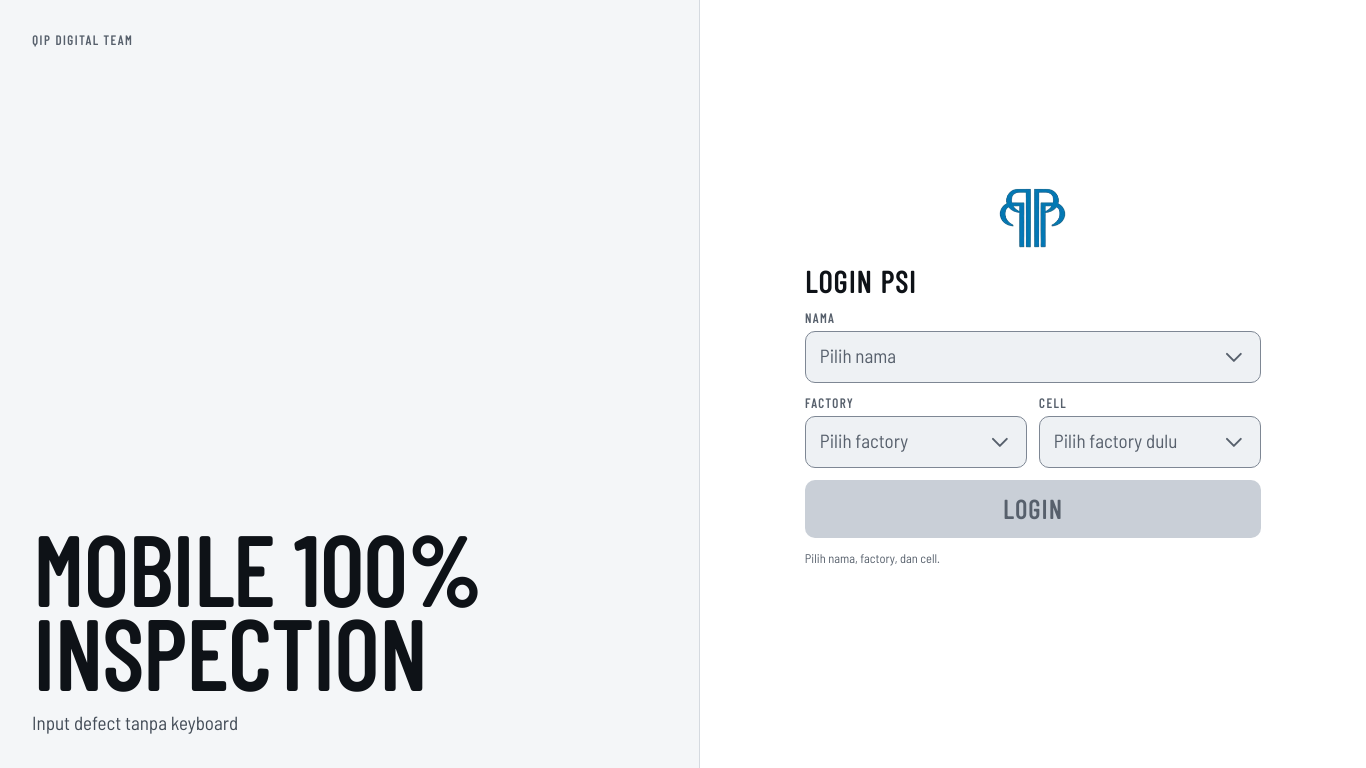
Test case: LoginScreen (doc 05 §7) › marks the chosen option in a picker and closes on Escape and scrim tap
Click the button "Pilih factory" at (916, 442), box [805,416,1027,468]
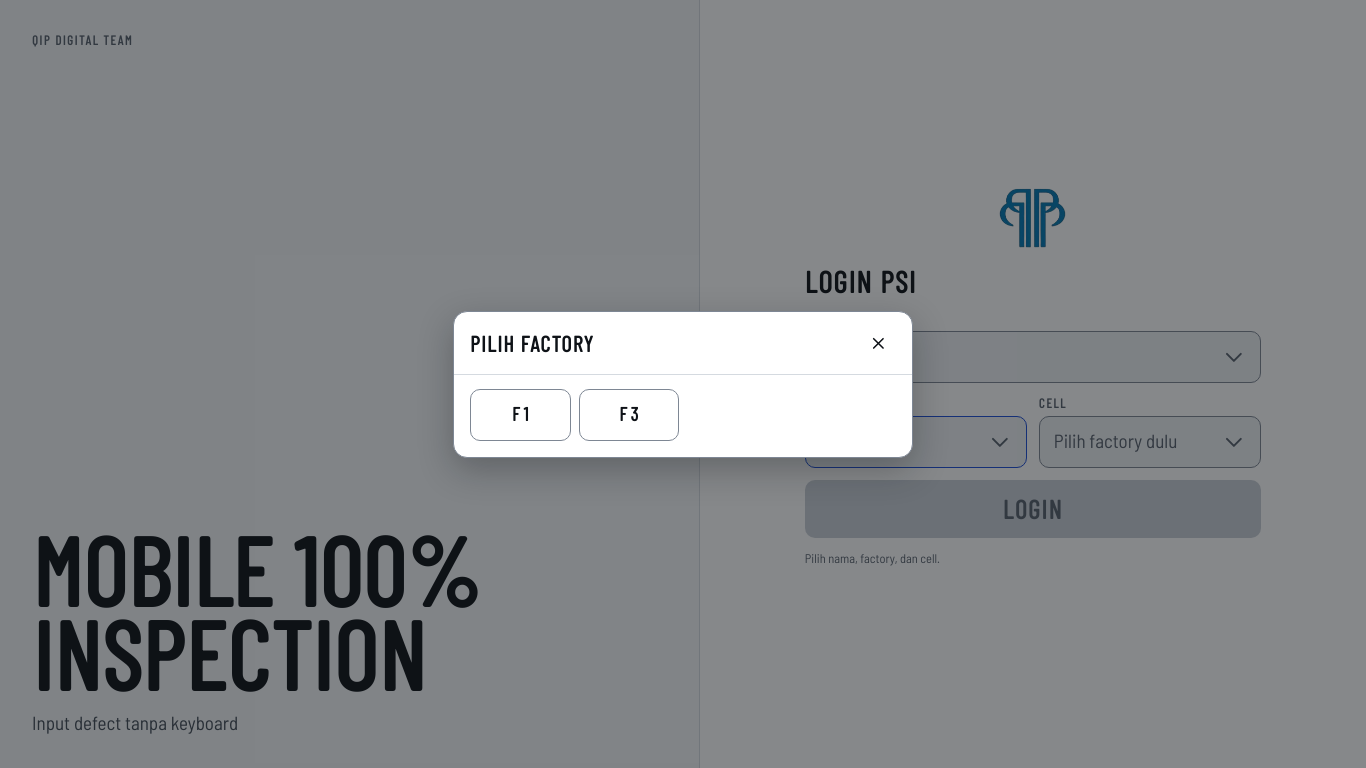
Click the option "F 3" at (629, 414), box [578,388,679,440]
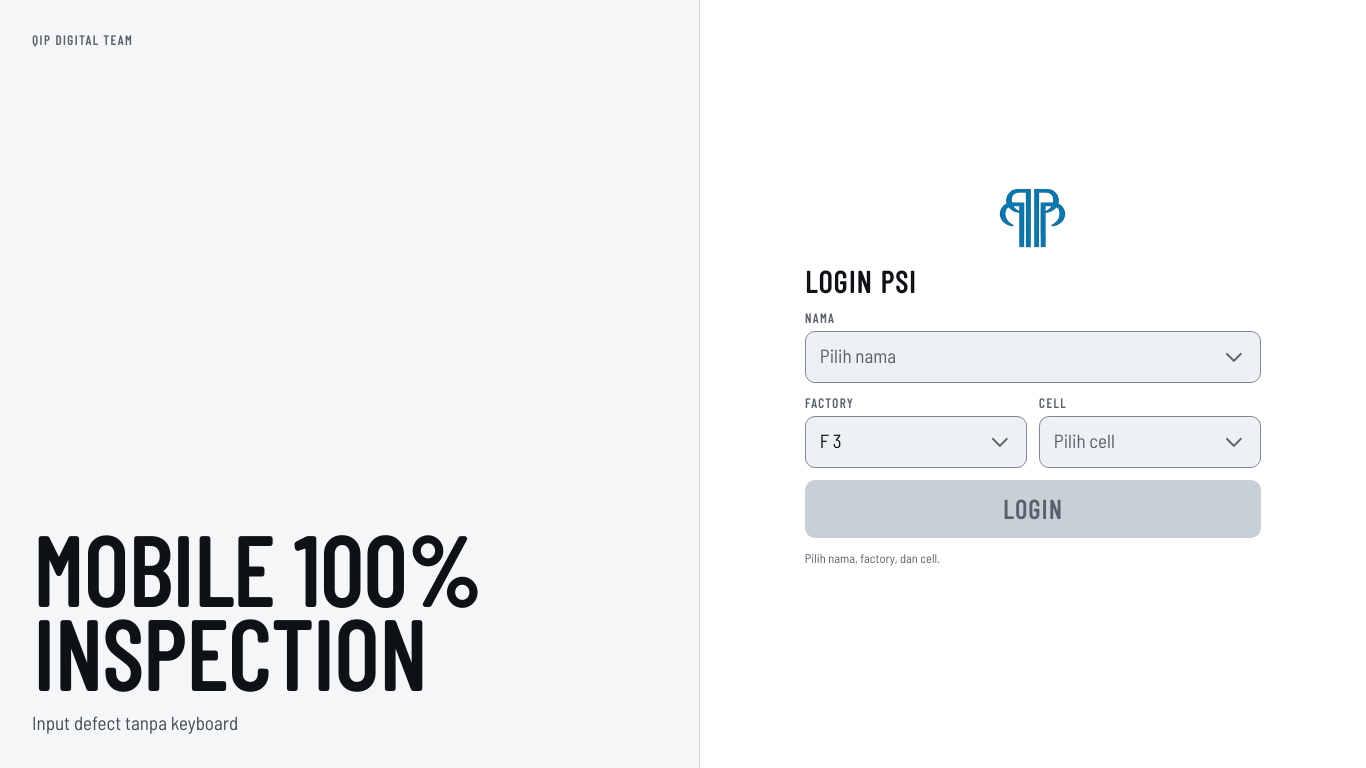
Click the button "F 3" at (916, 442), box [805,416,1027,468]
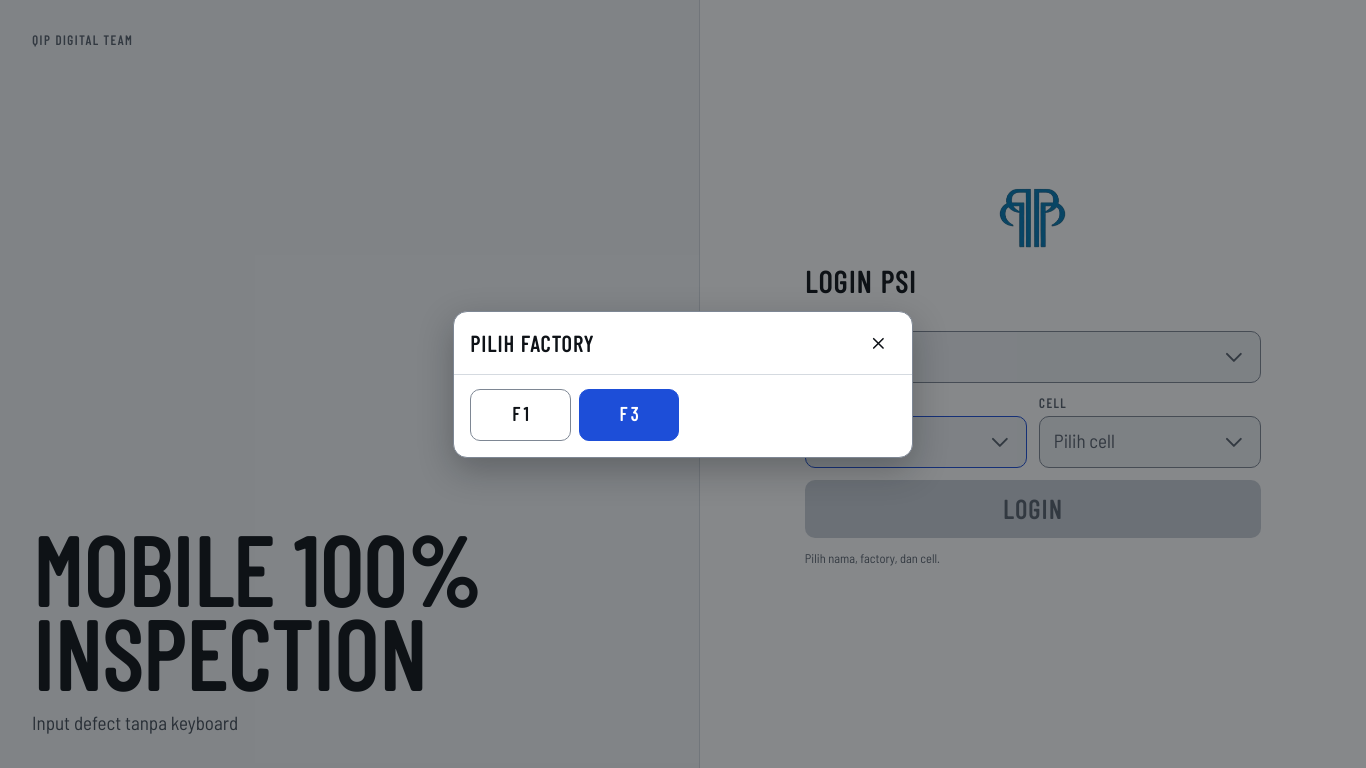
Now the option "F 3" is selected, box [578,388,679,440]
Press Escape
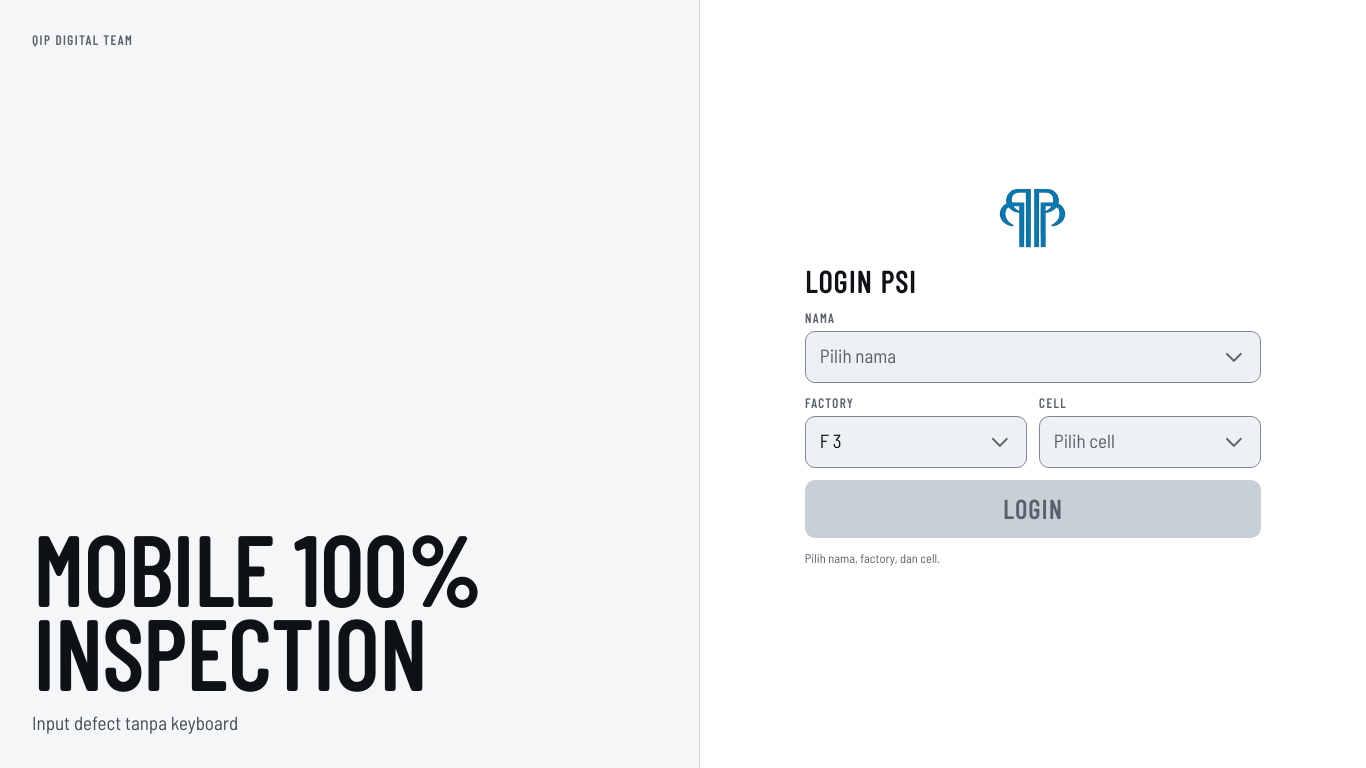
Now the dialog is gone
Click the button "Pilih nama" at (858, 356), box [805,331,1261,383]
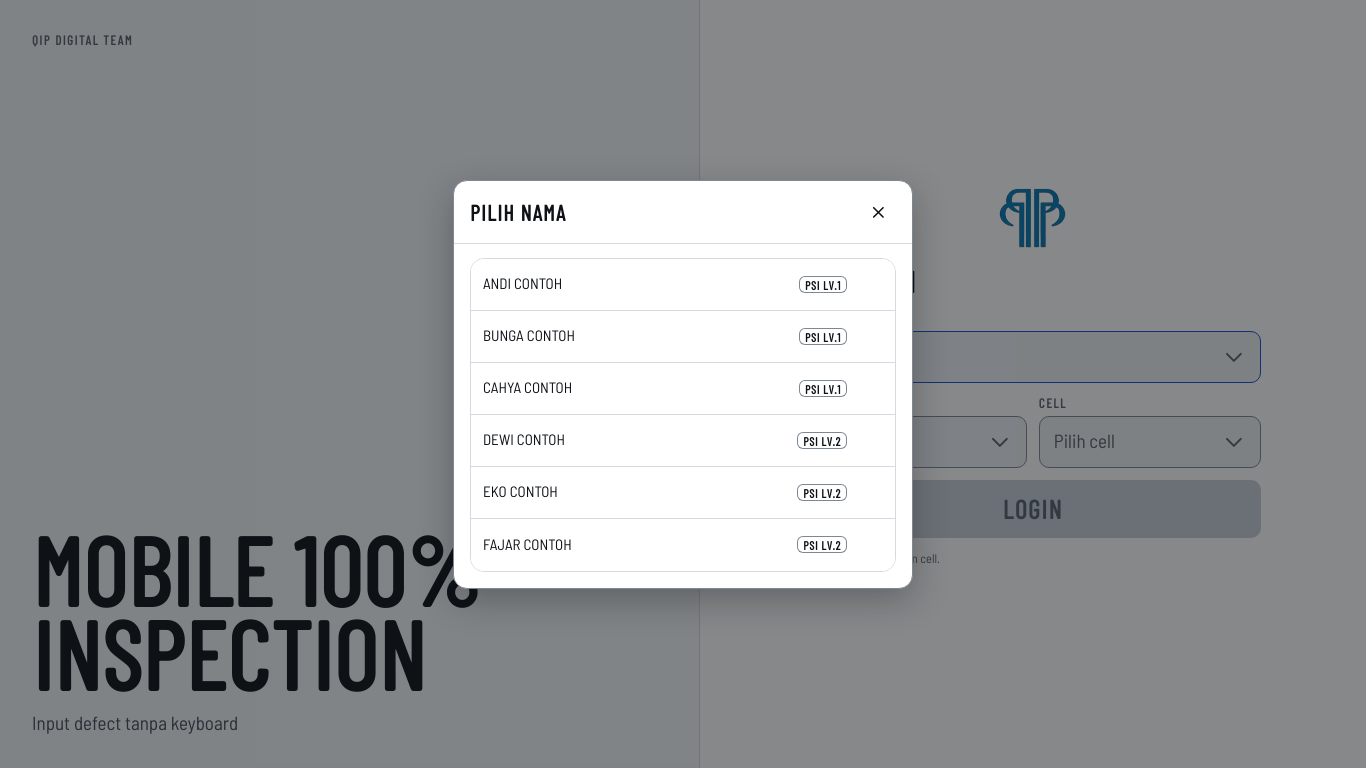
Click the element with test id "scrim" at (82, 384), box [0,0,1365,767]
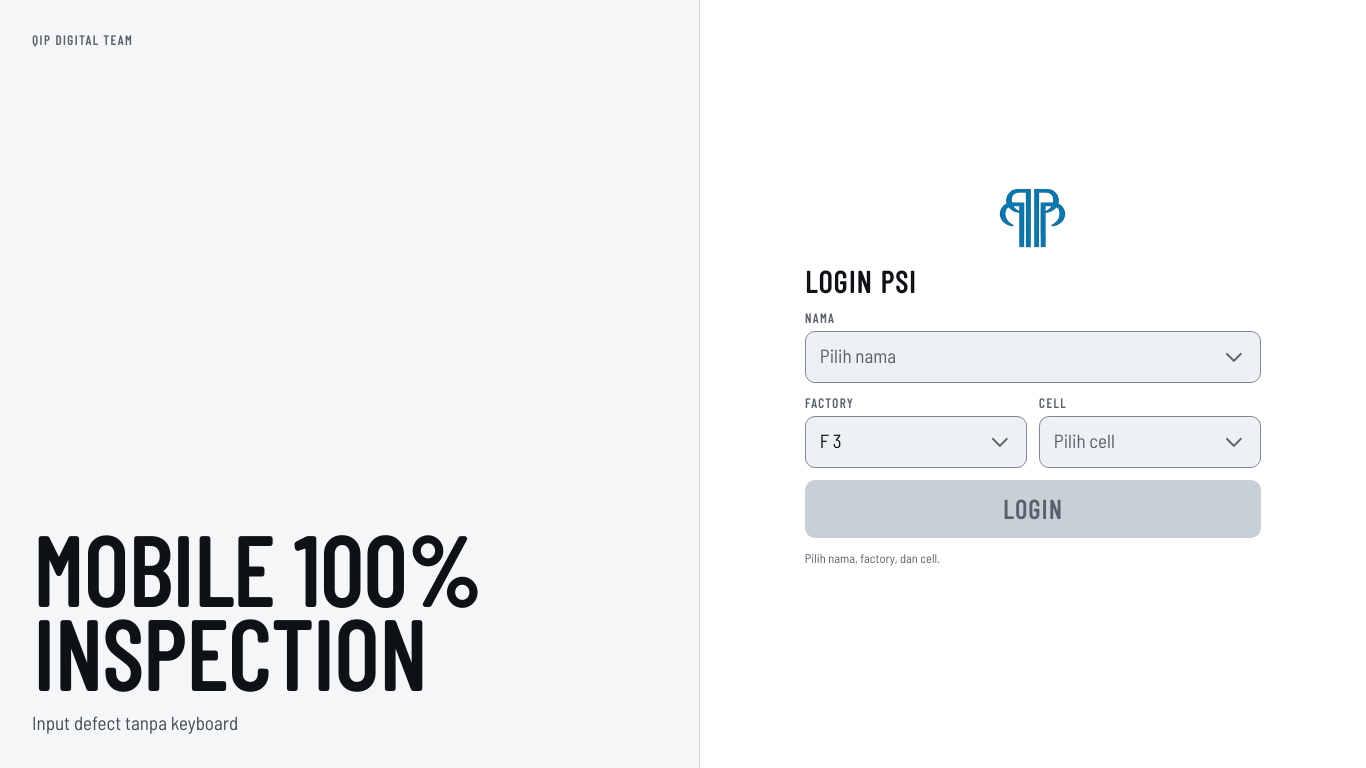
Now the dialog is gone
